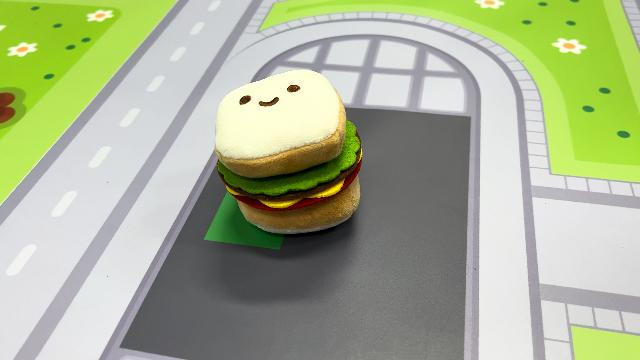sandwich: (212, 66, 366, 236)
